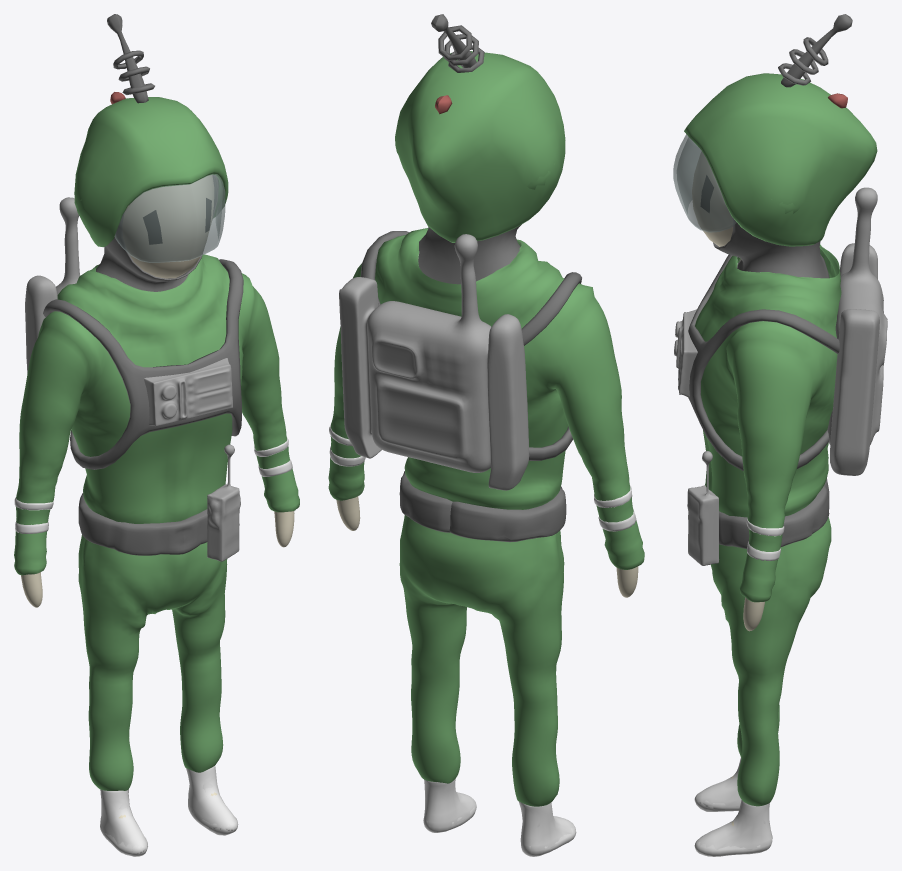
Rendered from TechModel.fbx.
The picture shows the model from 3 angles, left to right: view 1: azimuth 30°, elevation 25°; view 2: azimuth 150°, elevation 25°; view 3: azimuth 270°, elevation 25°; orthographic projection. The views are drawn at different scales.
Parts seen in each view (by area): view 1: TechVisor:Group3; view 2: TechVisor:Group3; view 3: TechVisor:Group3.
Boxes of the visible parts, left/top/right/bottom form: TechVisor:Group3: left=14, top=14, right=299, bottom=856; TechVisor:Group3: left=328, top=14, right=644, bottom=856; TechVisor:Group3: left=673, top=14, right=887, bottom=856.
Bounding box in the file's own units: 47.42 × 126 × 29.86.
